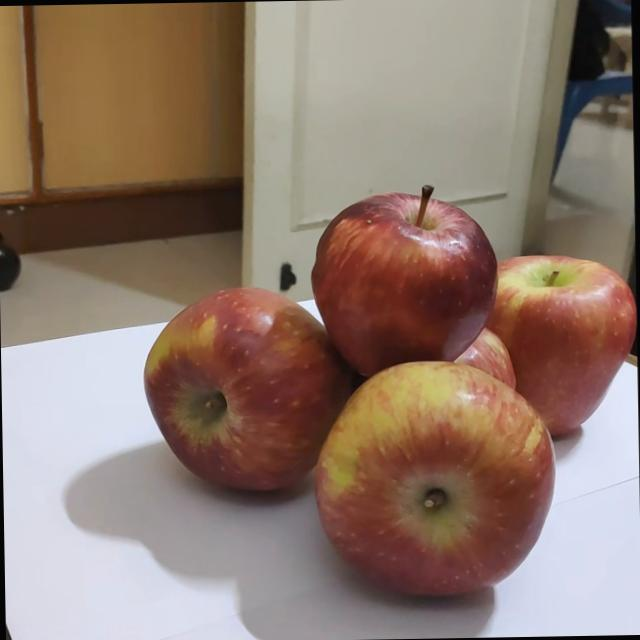apple: (322, 336, 572, 584), (133, 268, 357, 494), (304, 168, 510, 361), (474, 231, 618, 410)
